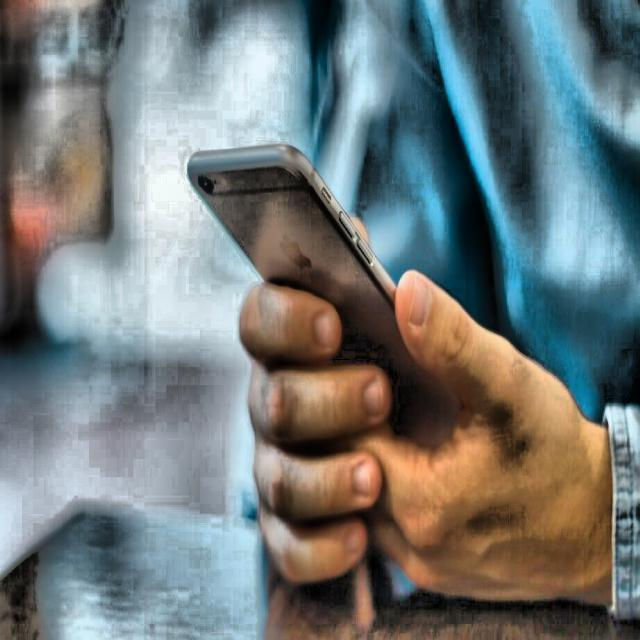Phone: (187, 144, 466, 430)
